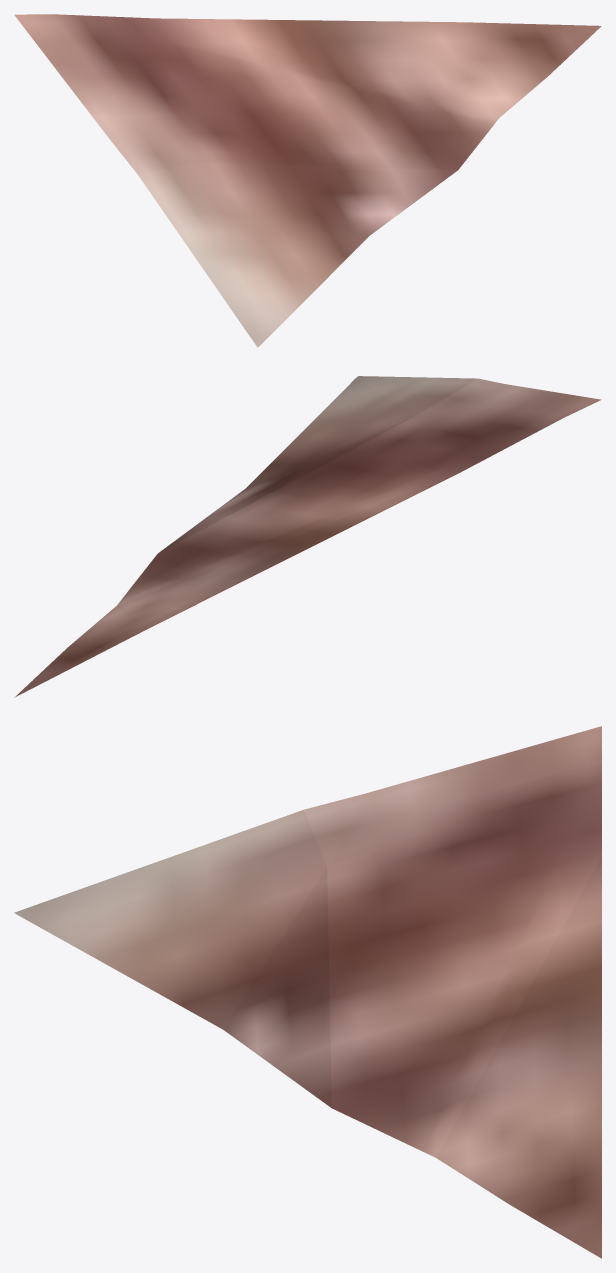
3 renders of one model, top to bottom at view 1: azimuth 30°, elevation 25°; view 2: azimuth 210°, elevation 25°; view 3: azimuth 270°, elevation 25°, orthographic. The views are drawn at different scales.
Bounding box in the file's own units: 0.2915 × 0.0733 × 0.2092.
Materials: 1 (1 with a texture image).
